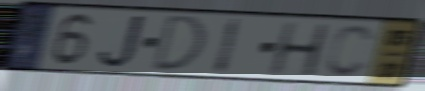6: (51, 11, 95, 68)
C: (322, 23, 377, 80)
D: (148, 13, 208, 73)
H: (266, 21, 332, 78)
I: (211, 16, 245, 77)
J: (95, 13, 149, 70)
